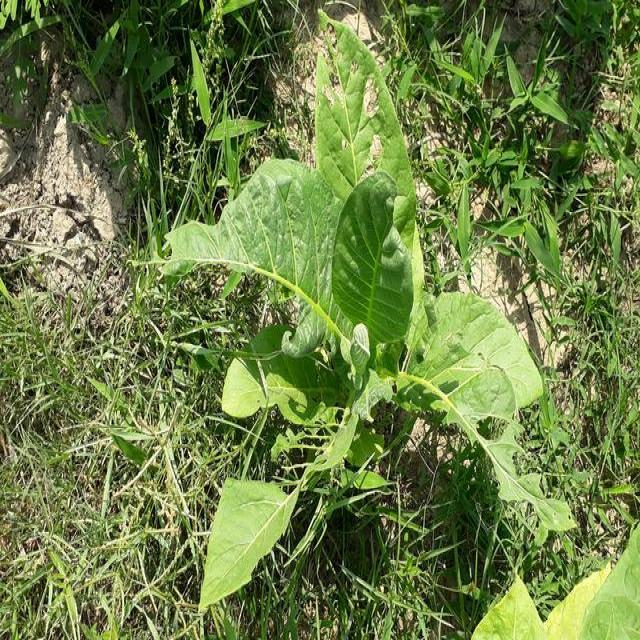crop: (178, 31, 564, 584), (477, 564, 637, 640)
